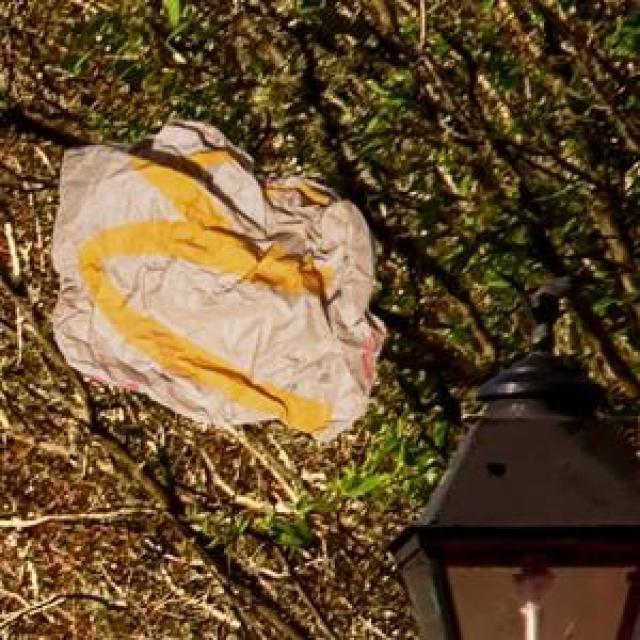paper: (47, 117, 382, 437)
